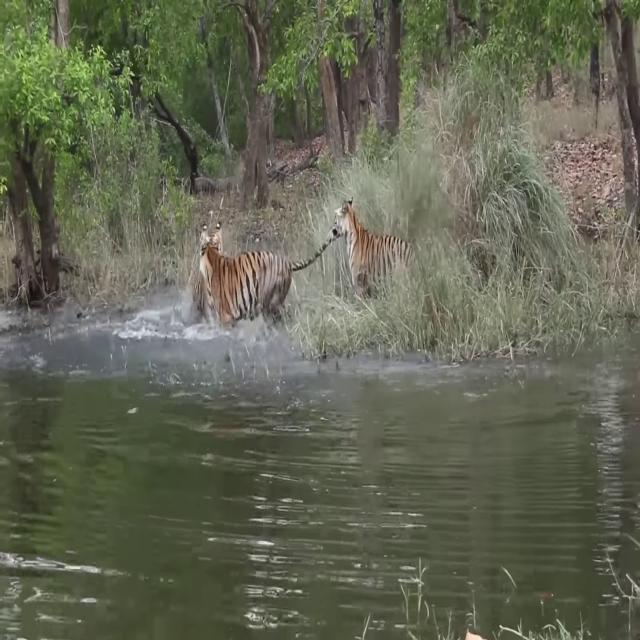tiger: (197, 220, 336, 331), (335, 196, 419, 299)
